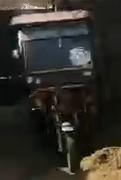Auto: (13, 9, 102, 178)
